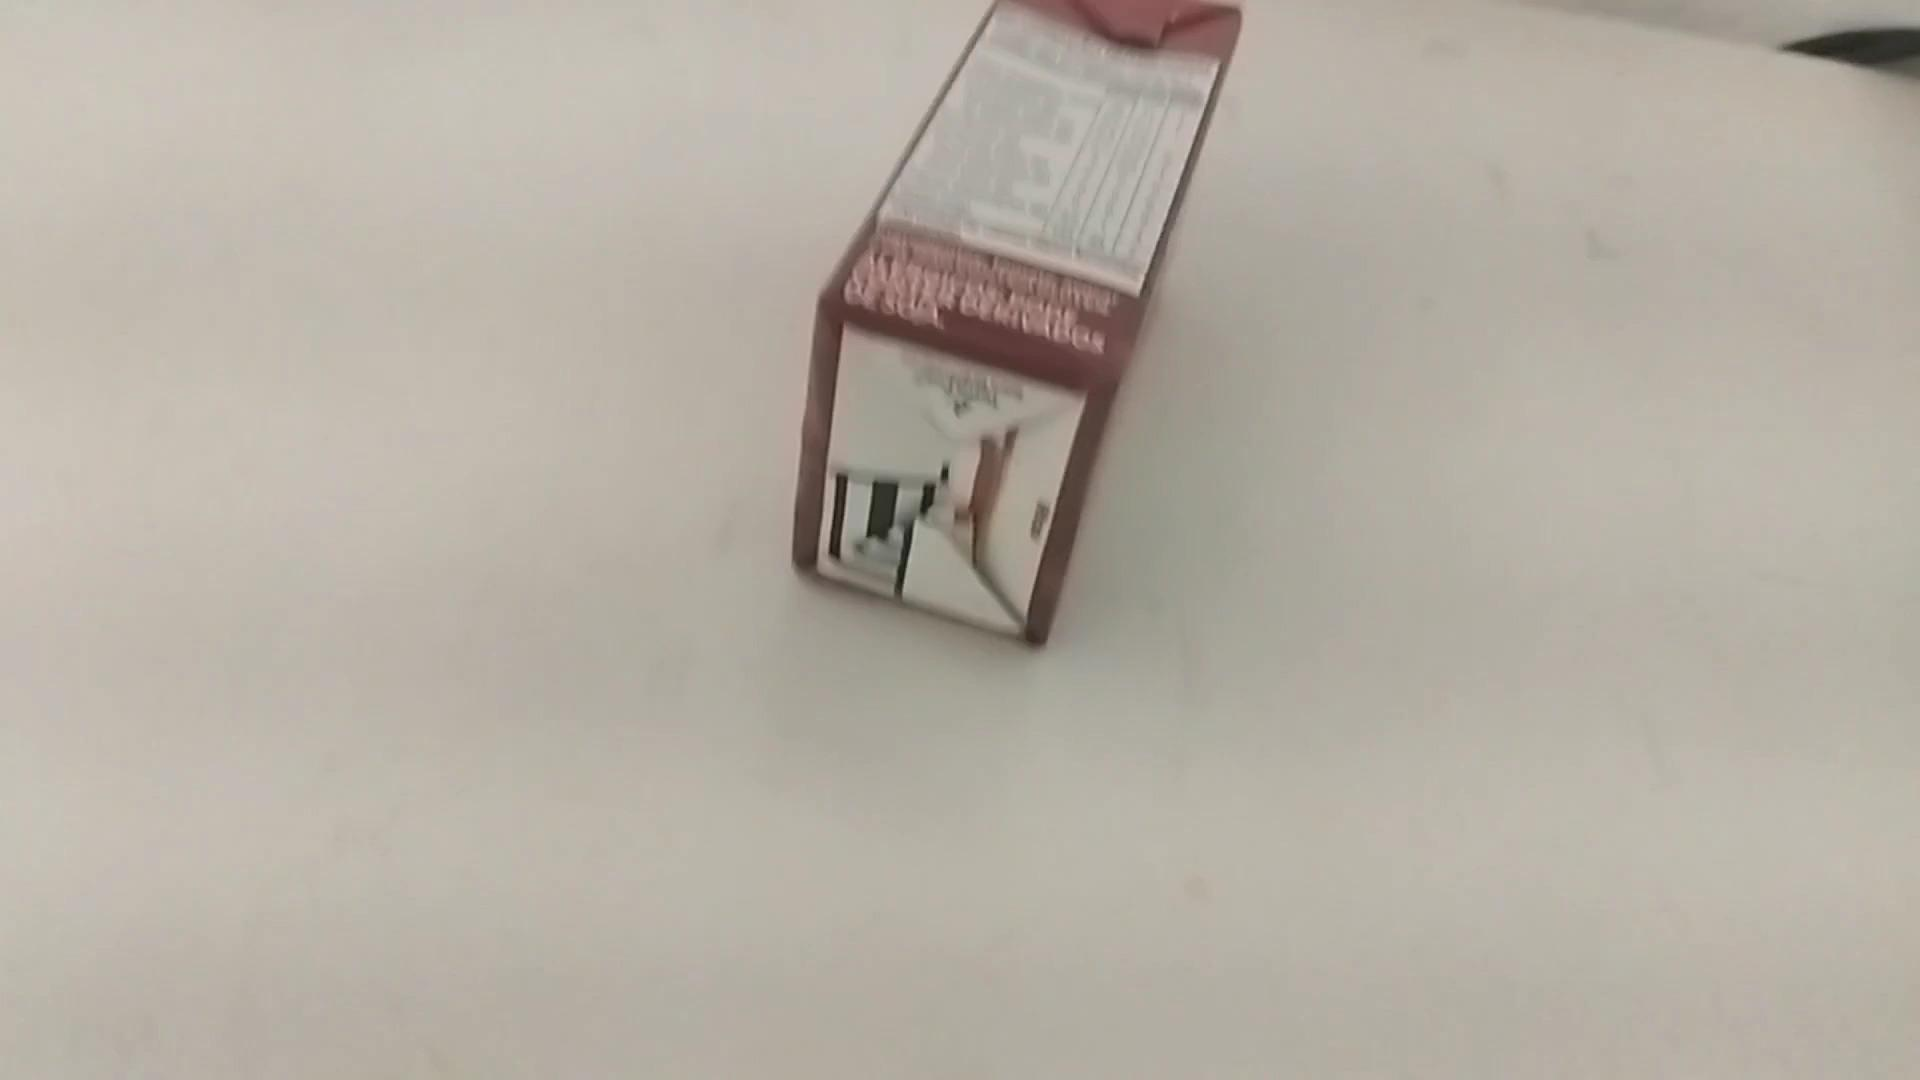tomate: (787, 4, 1240, 661)
